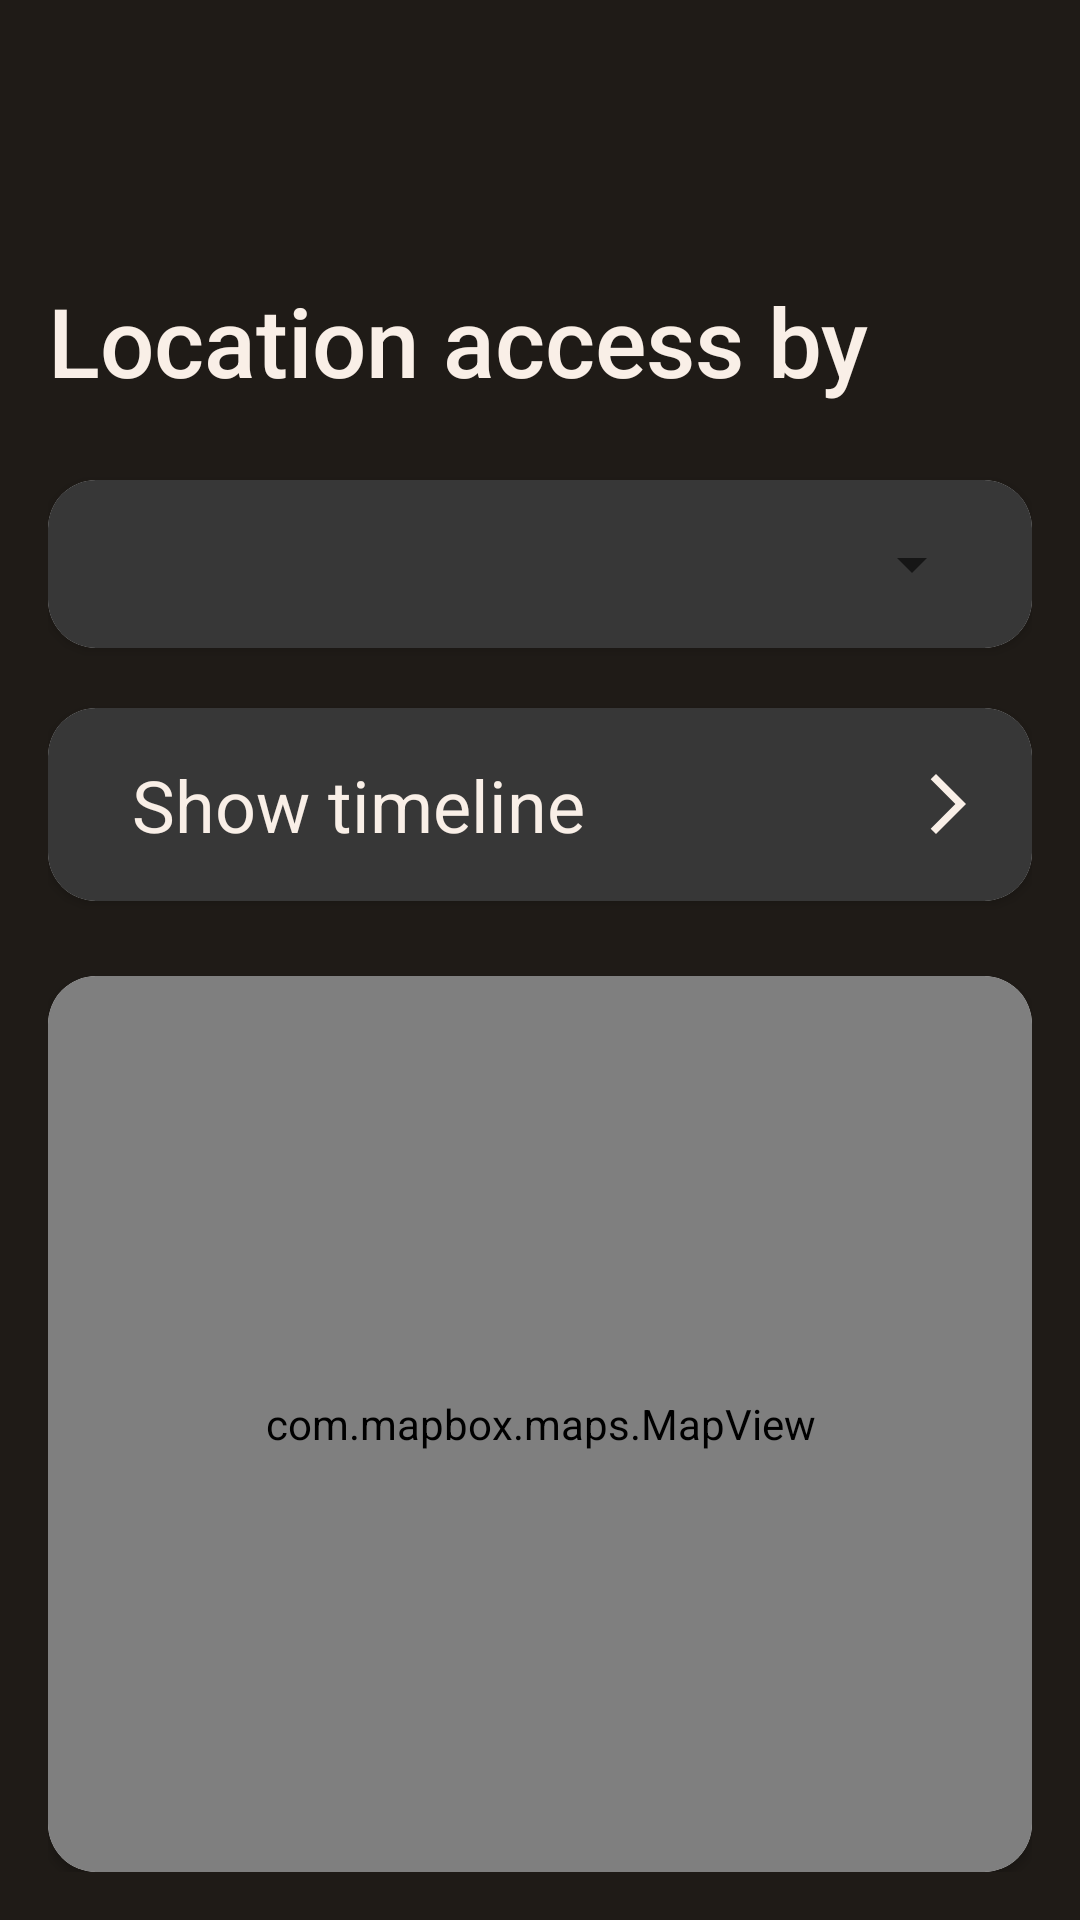

Icon click points for this 1080w x 1920h phone screenshot, format (x,y):
chevron forward: (948,804)
